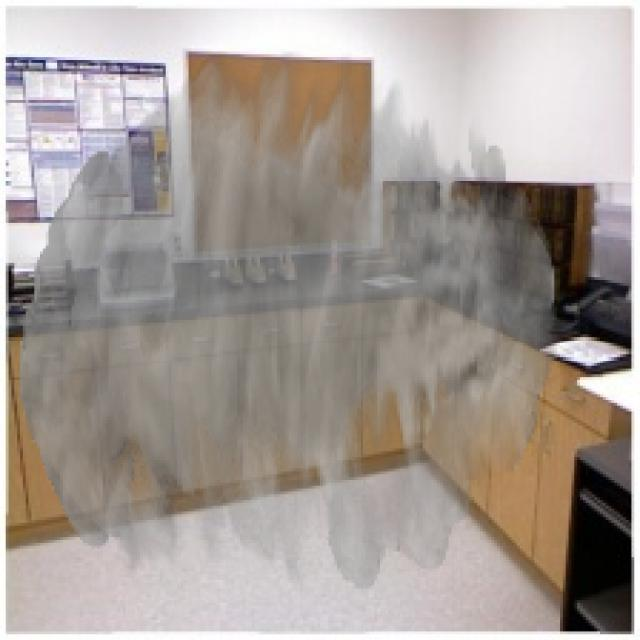smoke: (20, 51, 557, 592)
